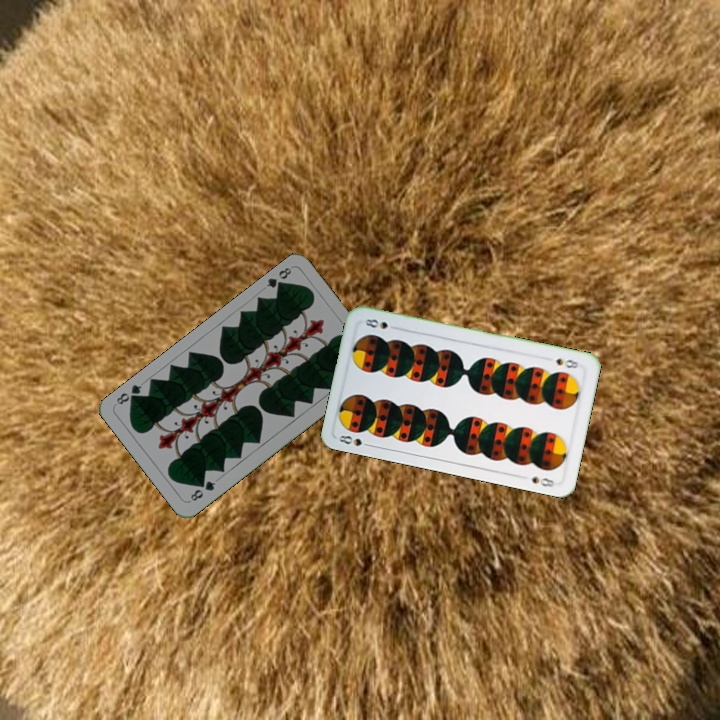G8: (262, 263, 294, 293), (186, 477, 218, 504)
S8: (335, 431, 375, 450), (552, 354, 582, 371)
